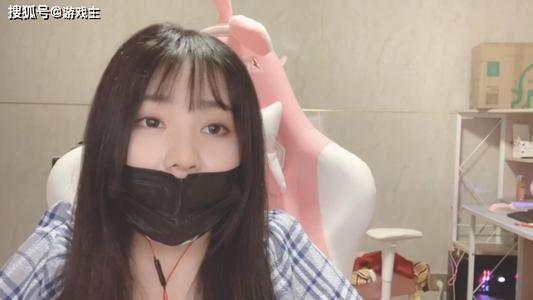WRONG: (121, 80, 240, 245)
